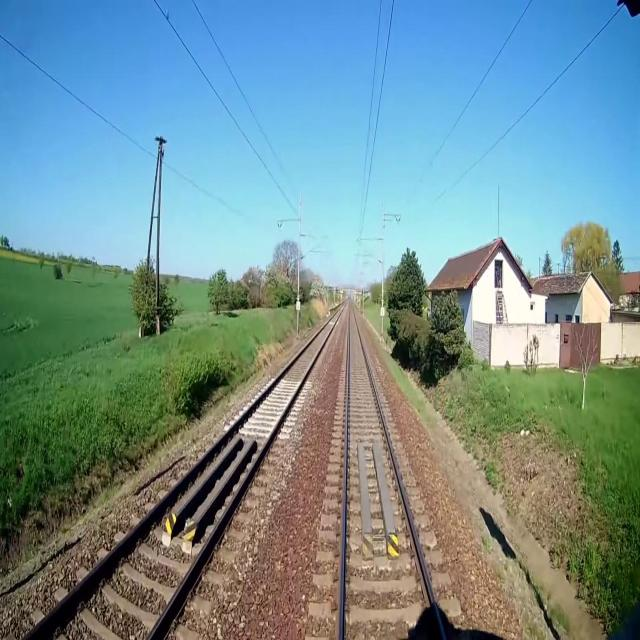rail-track: (29, 309, 341, 639), (344, 305, 441, 639)
